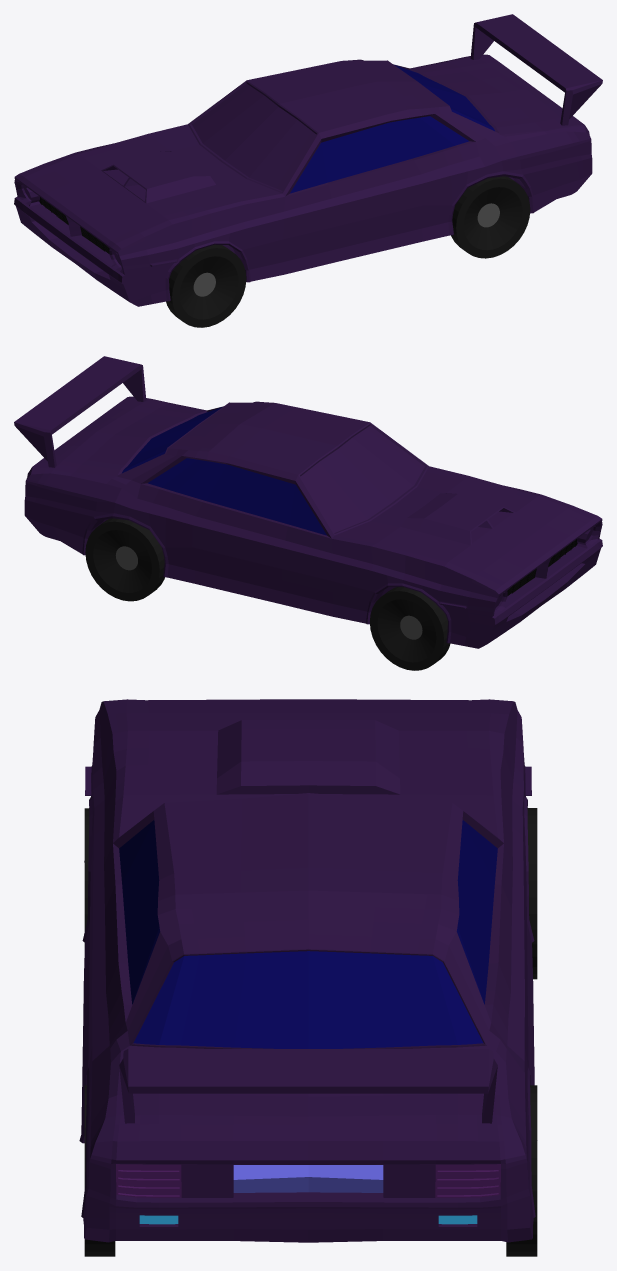
Rendered from Car.fbx.
The picture shows the model from 3 angles, top to bottom: view 1: azimuth 30°, elevation 25°; view 2: azimuth 150°, elevation 25°; view 3: azimuth 270°, elevation 25°; orthographic projection. The views are drawn at different scales.
Parts seen in each view (by area): view 1: Cube, Cylinder.003, Cylinder.002, Cube.002; view 2: Cube, Cylinder.001, Cylinder.009, Cube.002; view 3: Cube, Cube.003, Cylinder.001, Cylinder.009, Cylinder.002.
Part boxes in pixels (x1,y1,x2,y2): Cube: [14, 14, 602, 306]; Cylinder.003: [166, 244, 246, 327]; Cylinder.002: [451, 176, 530, 258]; Cube.002: [39, 197, 109, 253]; Cube: [14, 356, 602, 648]; Cylinder.001: [85, 518, 164, 601]; Cylinder.009: [370, 586, 450, 670]; Cube.002: [507, 539, 577, 595]; Cube: [79, 699, 535, 1242]; Cube.003: [116, 1164, 500, 1197]; Cylinder.001: [506, 1085, 537, 1256]; Cylinder.009: [527, 808, 537, 979]; Cylinder.002: [84, 1085, 115, 1256].
Size of the model in its own units: 654 by 192 by 263.
